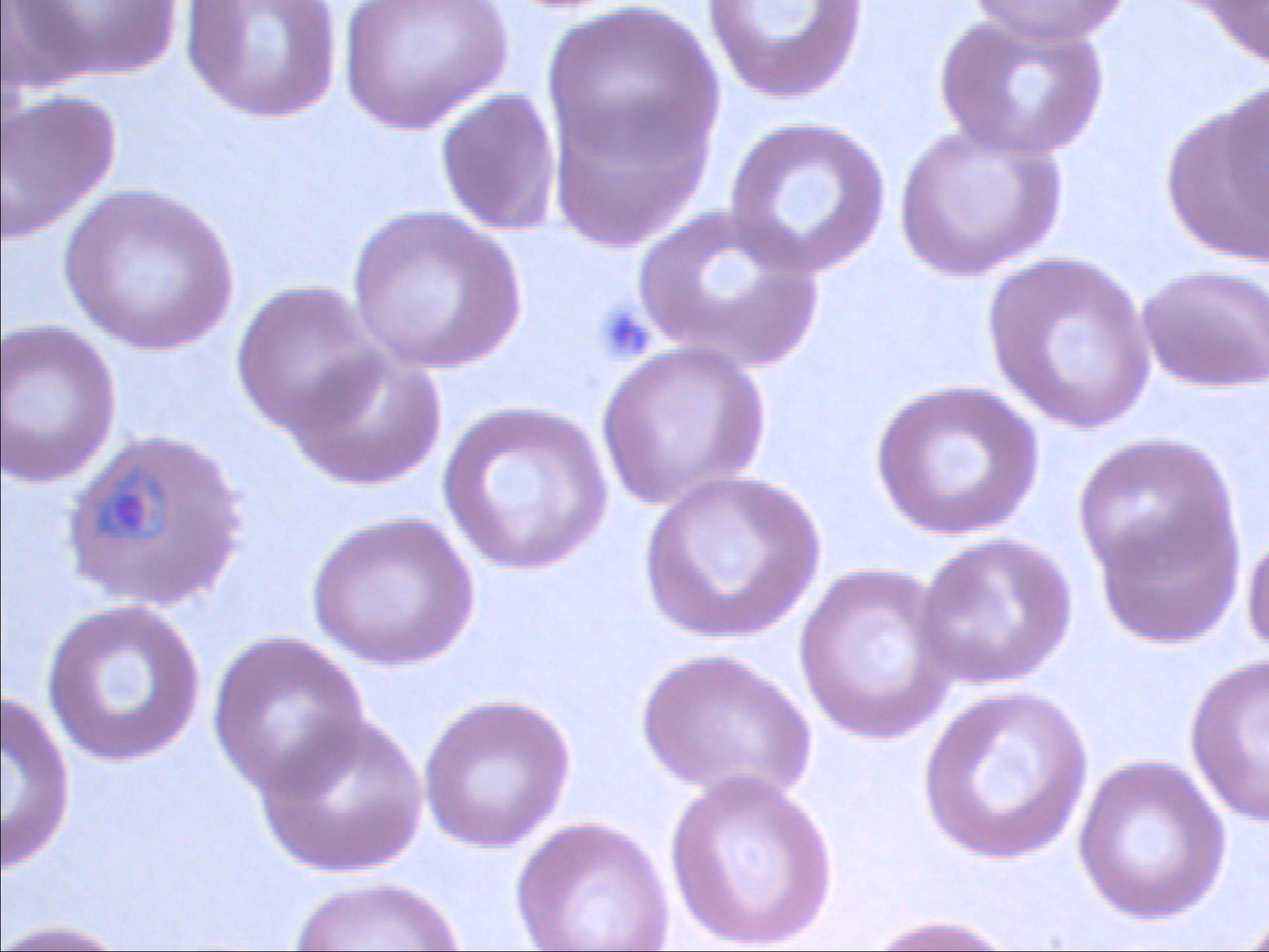Infected: (68, 439, 237, 599)
Uninfected: (238, 290, 440, 484), (550, 7, 720, 235), (641, 211, 818, 365), (65, 192, 231, 348), (647, 480, 816, 632), (928, 695, 1084, 853), (991, 265, 1146, 423), (673, 784, 831, 939), (445, 412, 605, 564), (358, 214, 519, 365), (217, 642, 366, 795), (894, 133, 1058, 272), (256, 730, 418, 867), (880, 388, 1036, 530), (801, 573, 942, 730), (316, 523, 473, 663), (731, 126, 884, 269), (606, 354, 759, 497), (644, 661, 807, 793), (52, 610, 198, 756), (946, 22, 1102, 151), (1081, 766, 1220, 909), (1085, 444, 1229, 578), (350, 1, 504, 126), (926, 544, 1067, 680), (427, 706, 565, 844), (520, 825, 666, 948), (193, 0, 332, 114), (2, 328, 110, 473), (5, 94, 112, 238), (445, 94, 555, 228), (712, 0, 859, 96), (1145, 274, 1267, 388), (1102, 534, 1231, 638)
